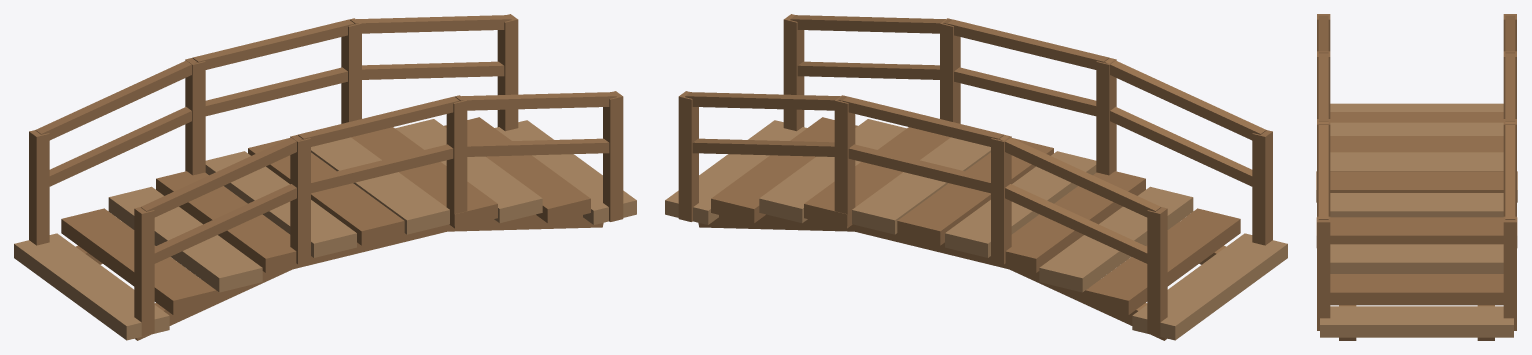
File: Woodland_Footbridge.glb
The picture shows the model from 3 angles, left to right: view 1: azimuth 30°, elevation 25°; view 2: azimuth 150°, elevation 25°; view 3: azimuth 270°, elevation 25°; orthographic projection. The views are drawn at different scales.
Parts seen in each view (by area): view 1: Woodland_Footbridge; view 2: Woodland_Footbridge; view 3: Woodland_Footbridge.
Boxes of the visible parts, bbox=[...] form: Woodland_Footbridge: bbox=[14, 14, 636, 340]; Woodland_Footbridge: bbox=[665, 14, 1287, 340]; Woodland_Footbridge: bbox=[1316, 14, 1517, 340].
Size of the model in its own units: 3.93 by 1.27 by 1.51.
